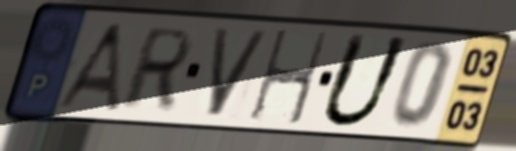0: (389, 38, 455, 133)
A: (51, 19, 129, 114)
H: (246, 27, 332, 128)
R: (115, 25, 199, 112)
U: (315, 29, 415, 131)
V: (204, 25, 273, 120)
